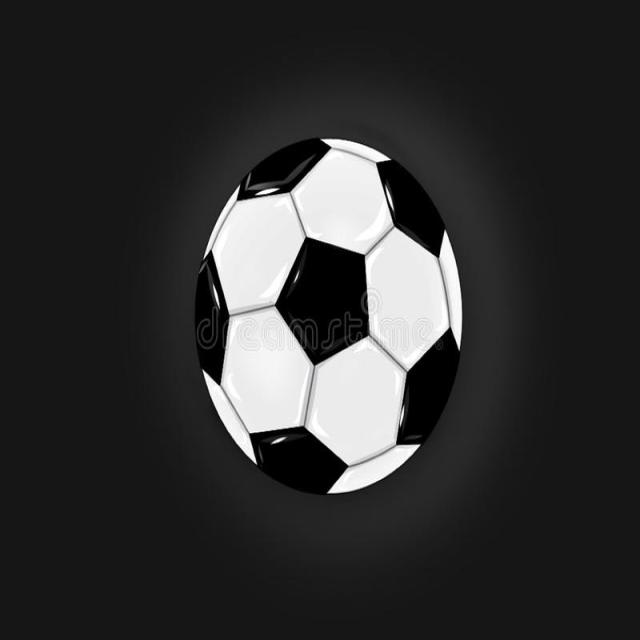ball: (170, 85, 482, 532)
